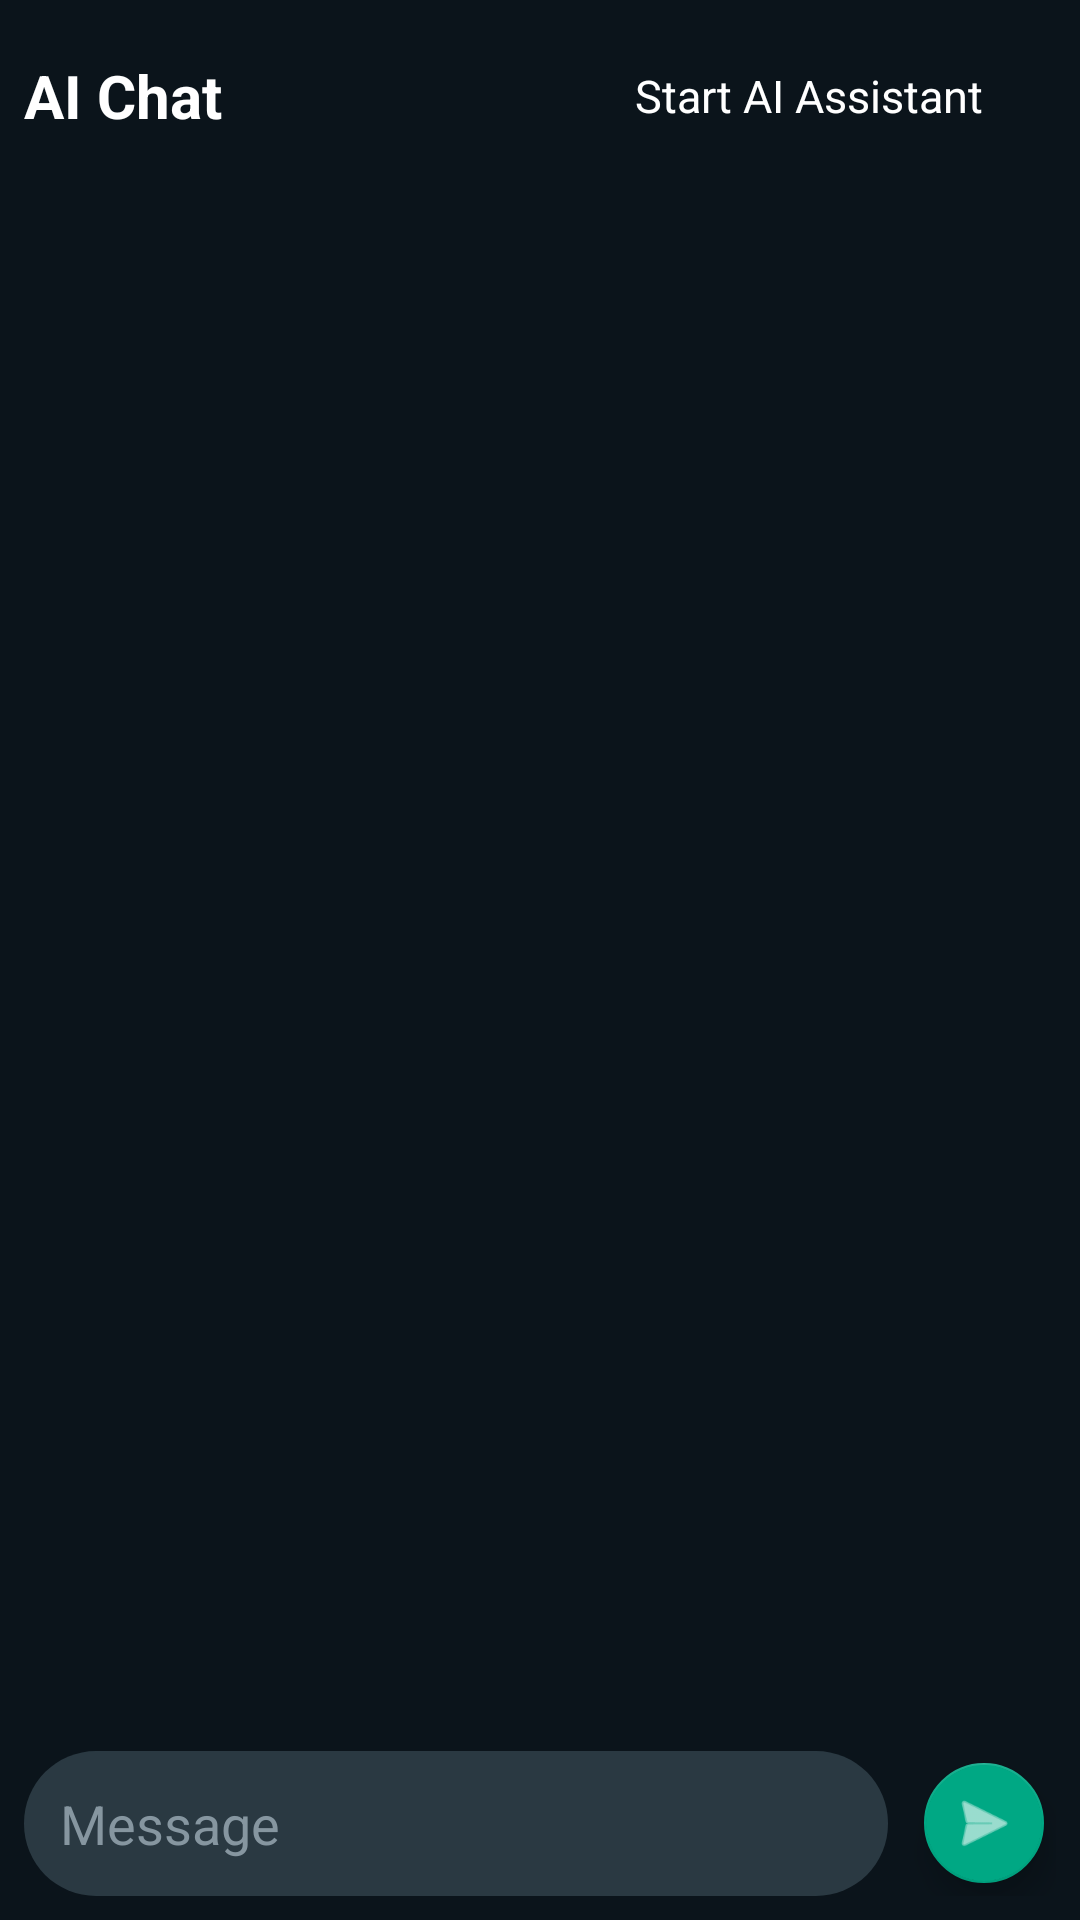

Icon click points for this 1080px×1920px phone screenshot, format (x=x, y=y):
Send: (x=984, y=1823)
